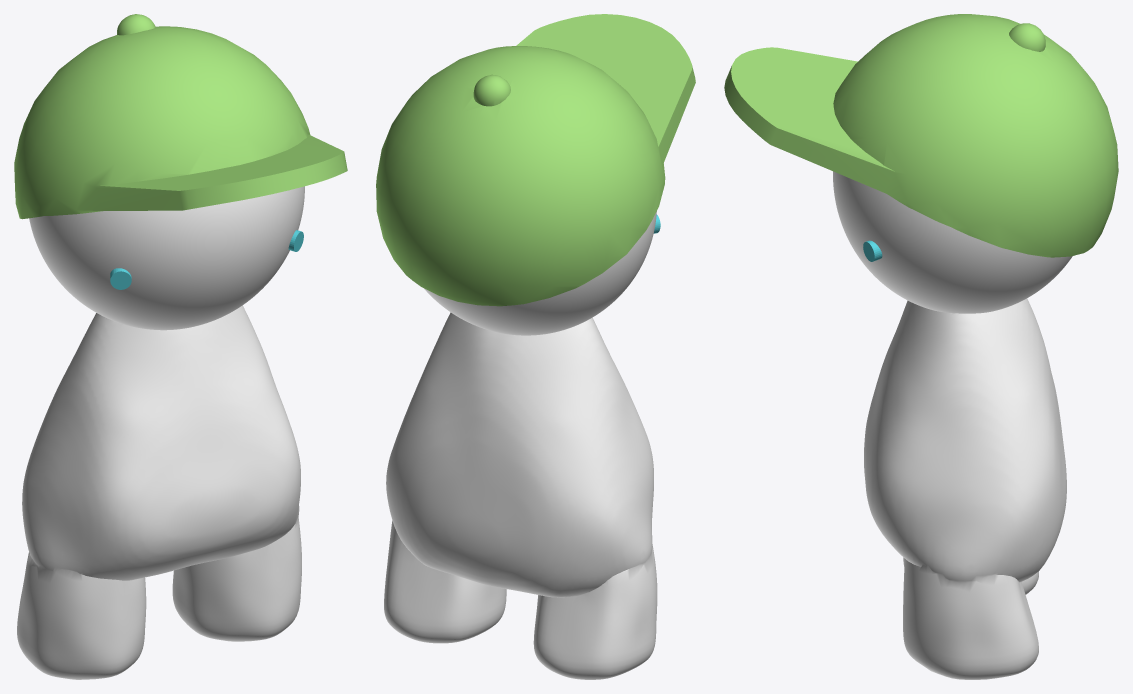
Rendered from minibpump.gltf.
The picture shows the model from 3 angles, left to right: view 1: azimuth 30°, elevation 25°; view 2: azimuth 150°, elevation 25°; view 3: azimuth 270°, elevation 25°; orthographic projection. The views are drawn at different scales.
Parts seen in each view (by area): view 1: Sphere.001, Icosphere; view 2: Sphere.001, Icosphere; view 3: Sphere.001, Icosphere.
Boxes of the visible parts, x1,y1,x2,y2 form: Sphere.001: (17,186,304,679); Icosphere: (14,14,347,219); Sphere.001: (384,211,657,679); Icosphere: (376,14,695,306); Sphere.001: (833,171,1072,679); Icosphere: (724,14,1118,257).
Size of the model in its own units: 1.97 by 4.32 by 2.56.
4 materials, 4 textured.
